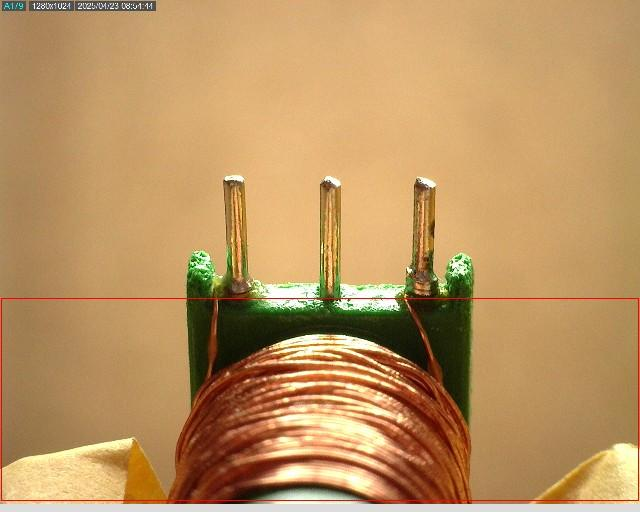obsolete: (402, 170, 443, 293)
